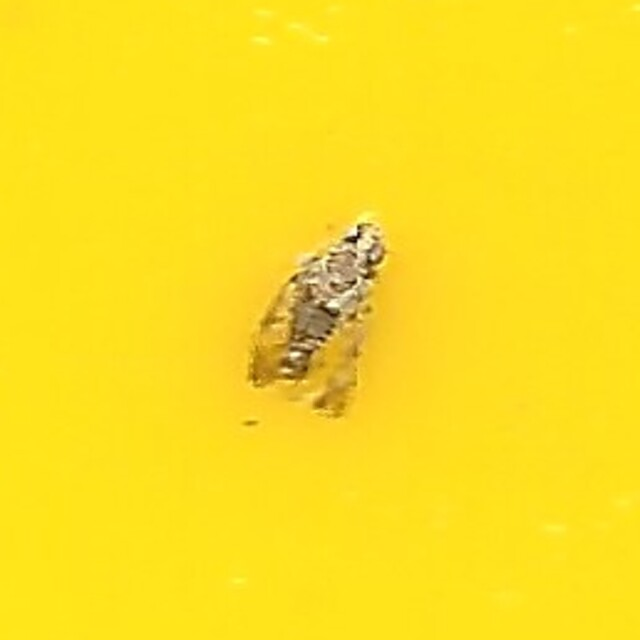Hemiptera: (248, 215, 392, 425)
